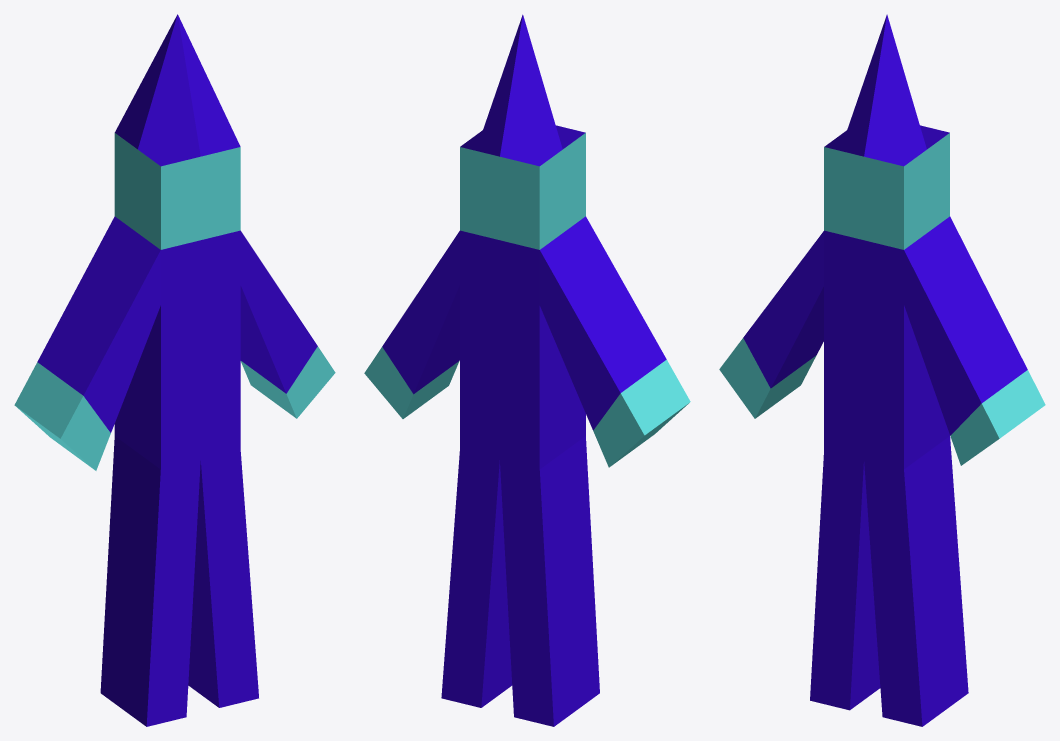
The model's file is playerrr.fbx.
3 renders of one model, left to right at view 1: azimuth 30°, elevation 25°; view 2: azimuth 150°, elevation 25°; view 3: azimuth 330°, elevation 25°, orthographic.
Visible parts, largest first — view 1: Cube; view 2: Cube; view 3: Cube.
Part boxes in pixels (x1,y1,x2,y2): Cube: (14, 14, 335, 726); Cube: (364, 14, 690, 726); Cube: (719, 14, 1045, 726).
Size of the model in its own units: 696 by 1634 by 211.
